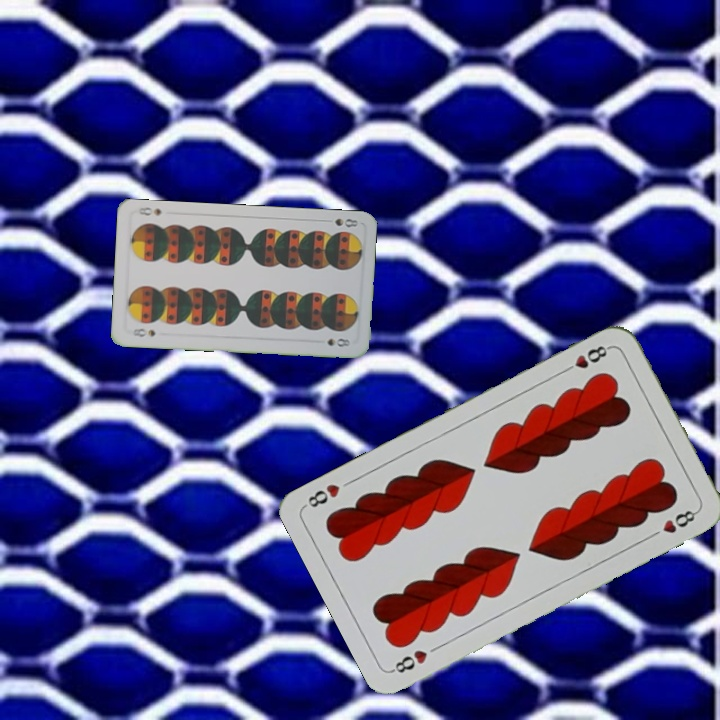H8: (559, 341, 613, 376), (388, 646, 430, 676)
S8: (320, 214, 361, 230), (129, 324, 158, 339)
